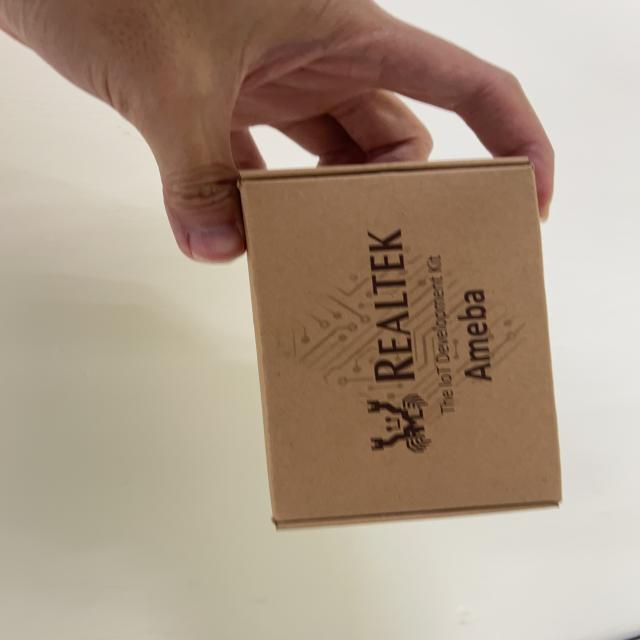box: (221, 148, 592, 551)
